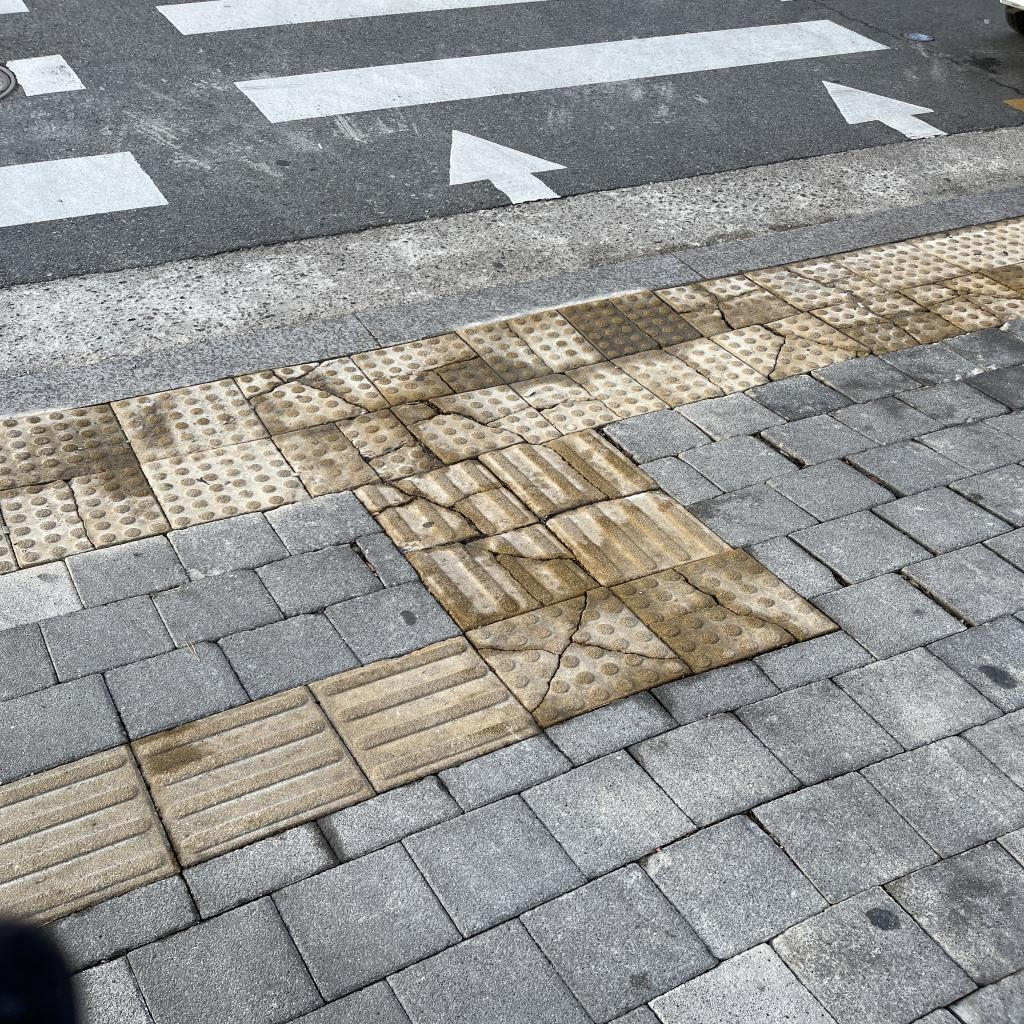Stop block broken: (469, 565, 689, 739), (611, 527, 839, 689), (271, 400, 443, 503), (392, 371, 559, 472), (710, 298, 872, 393), (510, 348, 670, 444), (612, 323, 769, 419), (235, 345, 388, 439), (457, 300, 606, 391), (811, 278, 965, 366), (350, 326, 504, 411), (656, 259, 801, 345), (559, 279, 702, 366), (744, 244, 888, 322)
Stop block normal: (142, 431, 310, 531), (112, 373, 270, 465)
Straight block broken: (406, 501, 599, 639), (354, 448, 536, 560), (481, 415, 657, 528)
Straight block normal: (132, 667, 374, 869), (309, 616, 540, 800), (546, 476, 732, 596)
